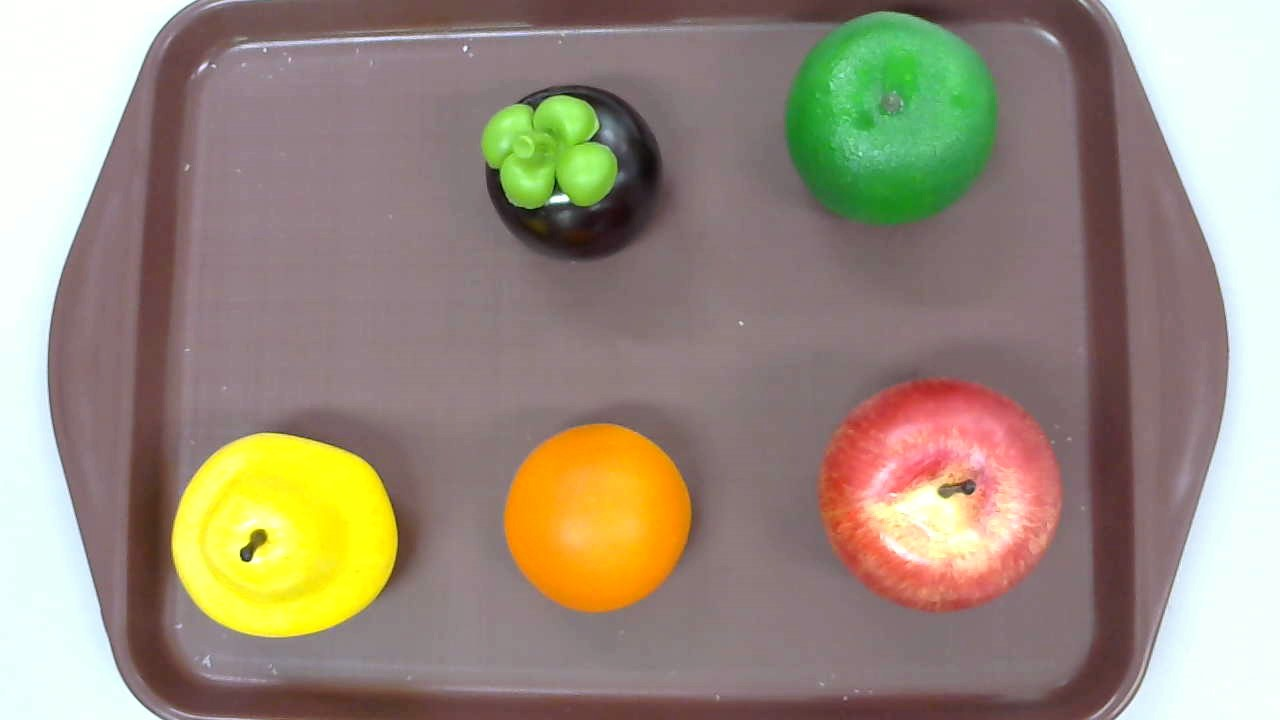bun: (504, 422, 692, 614)
green orange: (785, 11, 997, 227)
mangosteen: (481, 84, 664, 262)
red apple: (817, 377, 1061, 616)
yellow pear: (171, 433, 397, 637)
